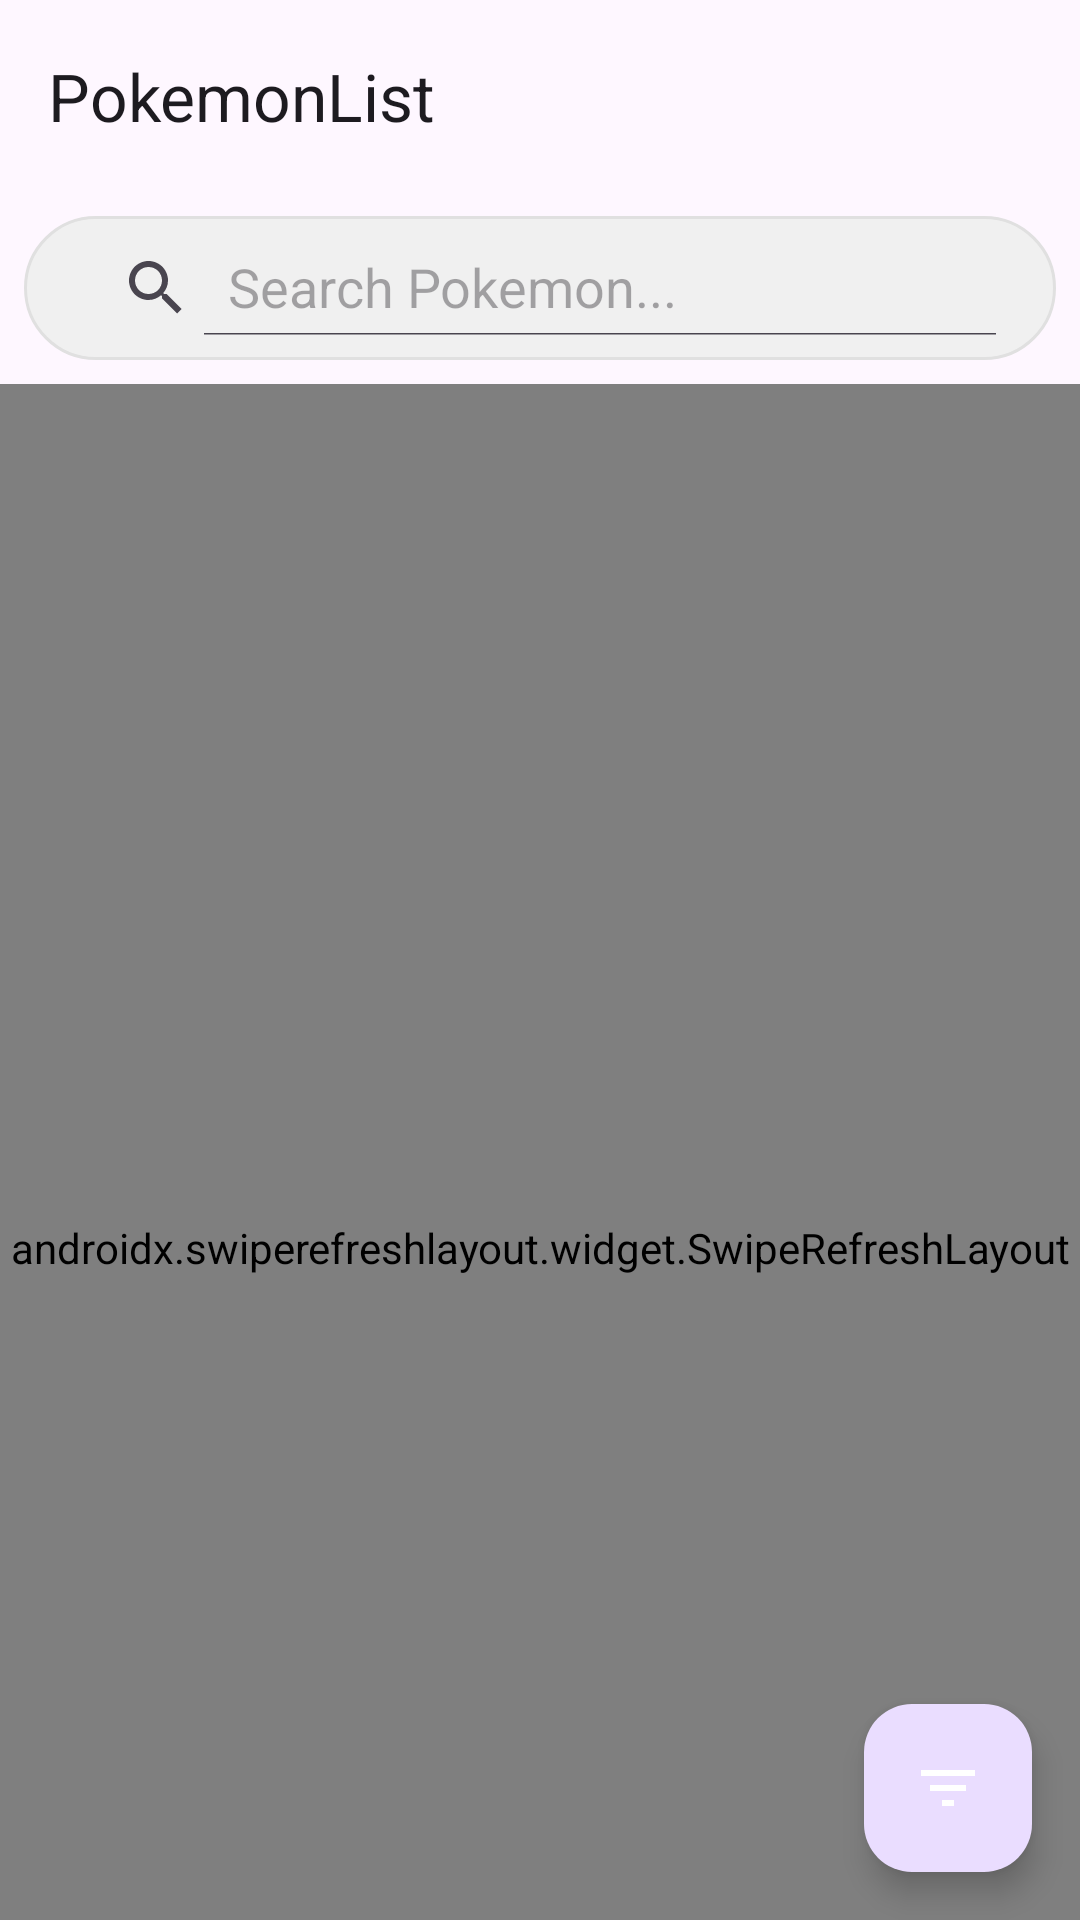

Screen size 1080w x 1920h. Icon name, then its center in pixels as point (x, y):
Filter Pokemon: point (948, 1788)
